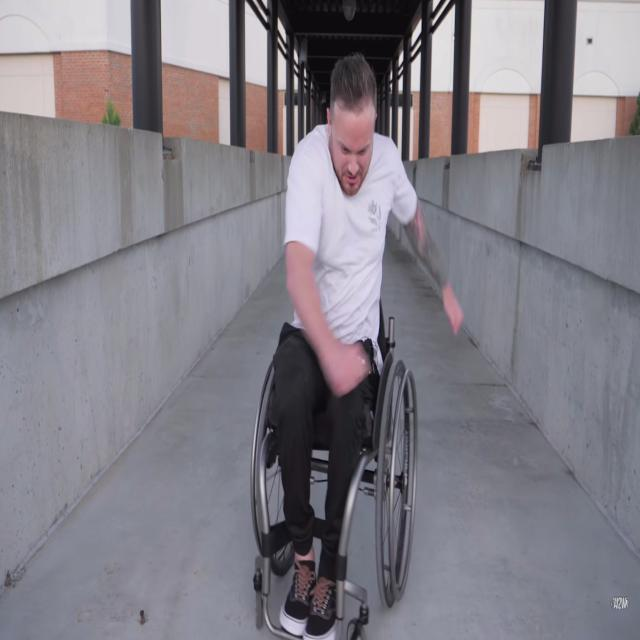wheelchairs: (248, 303, 412, 640)
